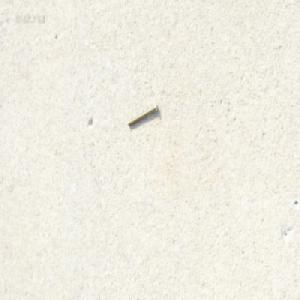Bolt: (126, 102, 157, 127)
